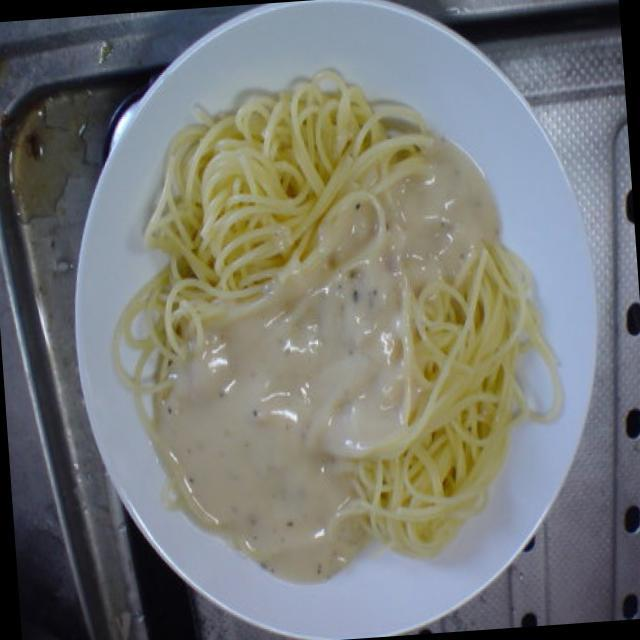Pasta: (130, 80, 538, 589)
